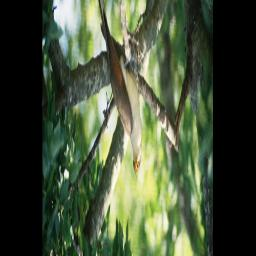Cuckoo: (88, 0, 143, 181)
